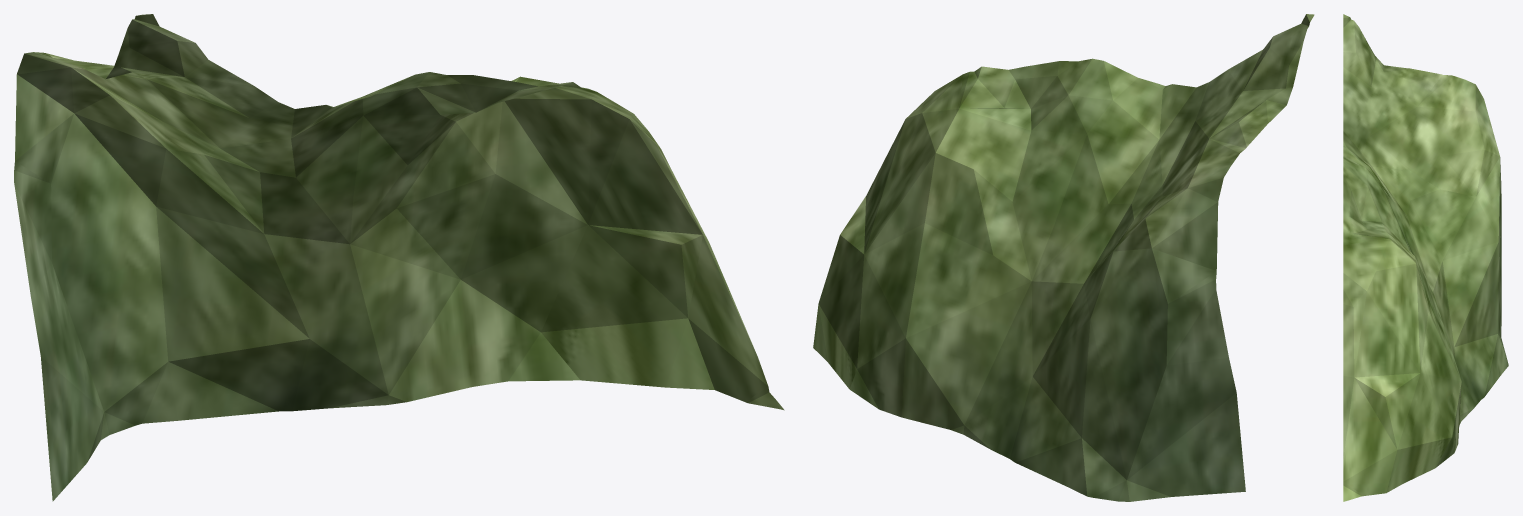
The picture shows the model from 3 angles, left to right: view 1: azimuth 30°, elevation 25°; view 2: azimuth 150°, elevation 25°; view 3: azimuth 270°, elevation 25°; orthographic projection. The views are drawn at different scales.
Bounding box in the file's own units: 2.1 × 1.73 × 0.8328.
Materials: 1 (1 with a texture image).
